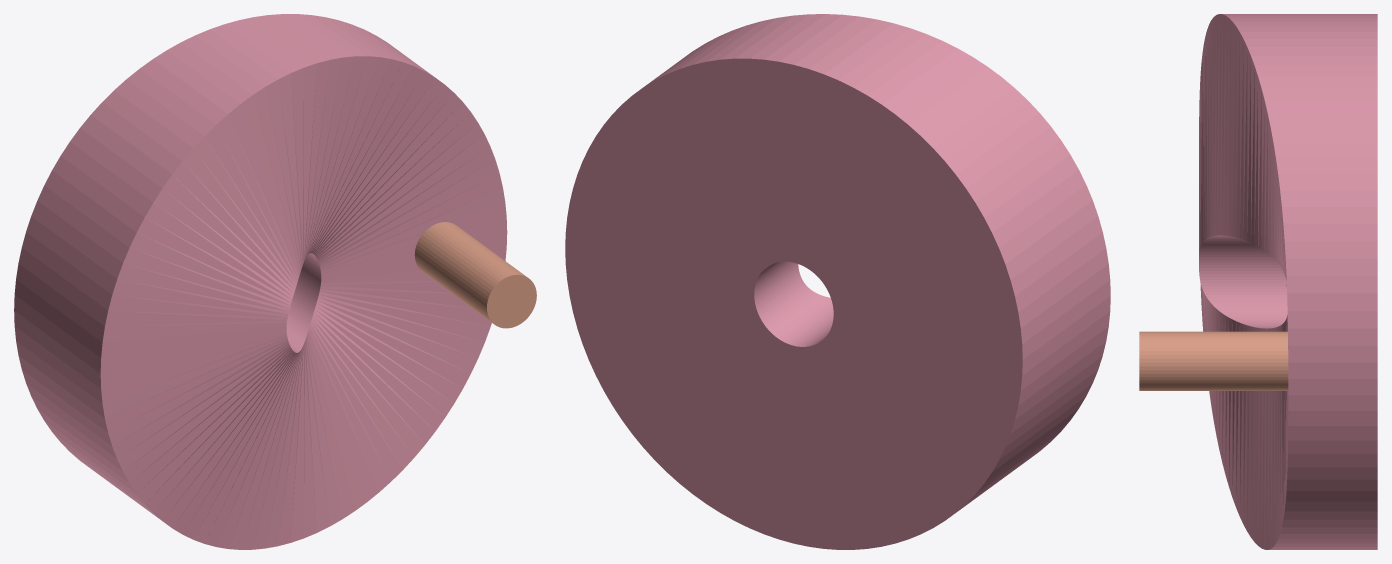
The model's file is face_cam_demo.glb.
The picture shows the model from 3 angles, left to right: view 1: azimuth 30°, elevation 25°; view 2: azimuth 150°, elevation 25°; view 3: azimuth 270°, elevation 25°; orthographic projection. The views are drawn at different scales.
Parts seen in each view (by area): view 1: cam, follower_pin; view 2: cam; view 3: cam, follower_pin.
Boxes of the visible parts, <box> form: cam: <box>14,14,507,549</box>; follower_pin: <box>414,222,536,328</box>; cam: <box>565,14,1110,549</box>; cam: <box>1199,14,1377,549</box>; follower_pin: <box>1139,331,1288,390</box>.
Size of the model in its own units: 36 by 36 by 16.
